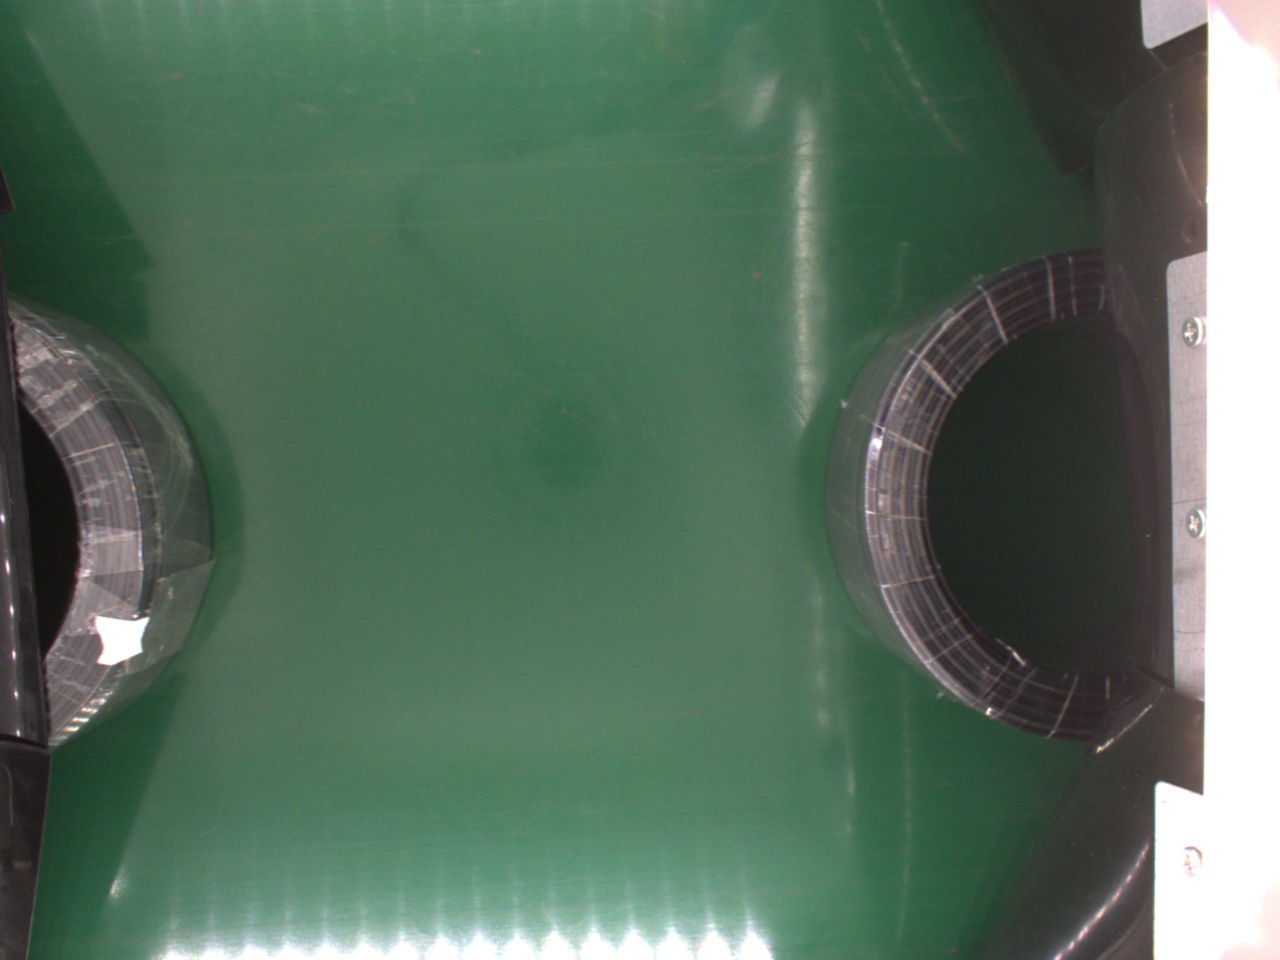black: (828, 250, 1129, 753), (3, 291, 213, 744)
